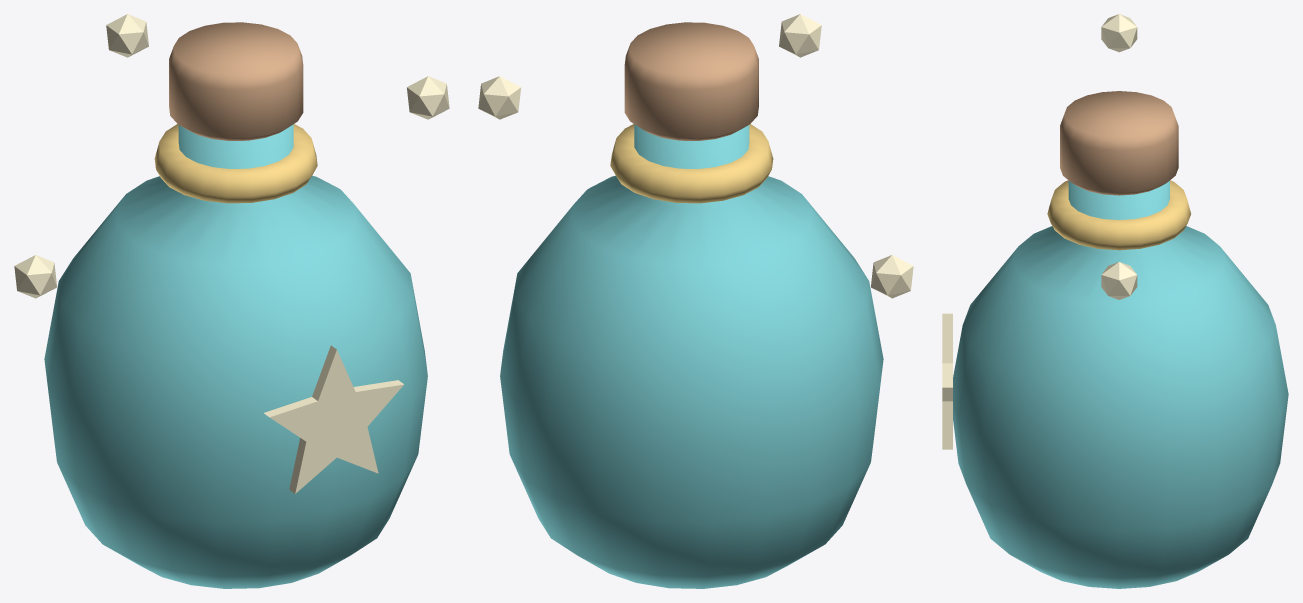
The model's file is sparkle-potion.glb.
3 views of the same model, side by side, from view 1: azimuth 30°, elevation 25°; view 2: azimuth 150°, elevation 25°; view 3: azimuth 270°, elevation 25° (orthographic). The views are drawn at different scales.
Parts seen in each view (by area): view 1: Sparkle potion | rounded bottle, Sparkle potion | cork stopper, Sparkle potion | star label, Sparkle potion | golden neck ribbon, Potion floating sparkle 2, Potion floating sparkle 0, Potion floating sparkle 1; view 2: Sparkle potion | rounded bottle, Sparkle potion | cork stopper, Sparkle potion | golden neck ribbon, Potion floating sparkle 2, Potion floating sparkle 0, Potion floating sparkle 1; view 3: Sparkle potion | rounded bottle, Sparkle potion | cork stopper, Sparkle potion | golden neck ribbon, Sparkle potion | star label, Potion floating sparkle 1, Potion floating sparkle 2.
Part boxes in pixels (x1=…): Sparkle potion | rounded bottle: x1=44, y1=124, x2=427, y2=588; Sparkle potion | cork stopper: x1=169, y1=22, x2=303, y2=140; Sparkle potion | star label: x1=264, y1=345, x2=403, y2=493; Sparkle potion | golden neck ribbon: x1=154, y1=124, x2=317, y2=203; Potion floating sparkle 2: x1=106, y1=14, x2=148, y2=57; Potion floating sparkle 0: x1=14, y1=255, x2=56, y2=298; Potion floating sparkle 1: x1=407, y1=76, x2=449, y2=119; Sparkle potion | rounded bottle: x1=500, y1=124, x2=883, y2=588; Sparkle potion | cork stopper: x1=624, y1=22, x2=758, y2=140; Sparkle potion | golden neck ribbon: x1=610, y1=124, x2=773, y2=203; Potion floating sparkle 2: x1=779, y1=14, x2=821, y2=57; Potion floating sparkle 0: x1=871, y1=255, x2=913, y2=298; Potion floating sparkle 1: x1=478, y1=76, x2=520, y2=119; Sparkle potion | rounded bottle: x1=953, y1=181, x2=1288, y2=588; Sparkle potion | cork stopper: x1=1060, y1=91, x2=1178, y2=195; Sparkle potion | golden neck ribbon: x1=1047, y1=180, x2=1190, y2=250; Sparkle potion | star label: x1=942, y1=313, x2=952, y2=449; Potion floating sparkle 1: x1=1101, y1=262, x2=1137, y2=299; Potion floating sparkle 2: x1=1101, y1=14, x2=1137, y2=52.
Size of the model in its own units: 1.03 by 1.28 by 0.818.
